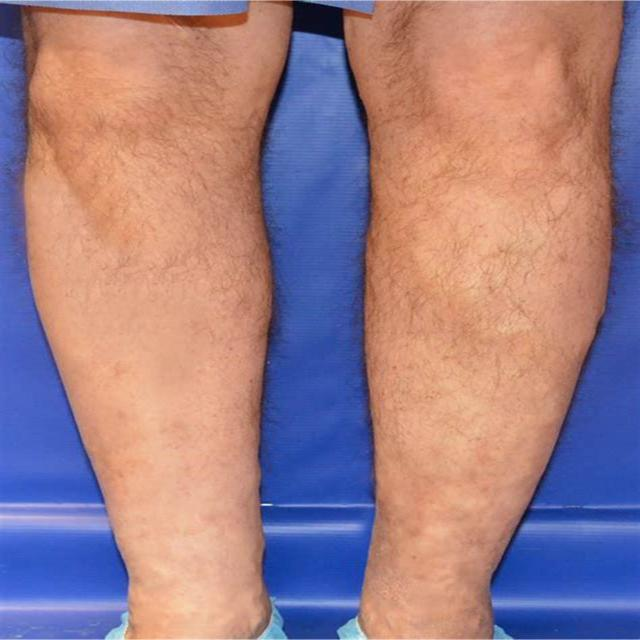Normal: (26, 61, 596, 502)
